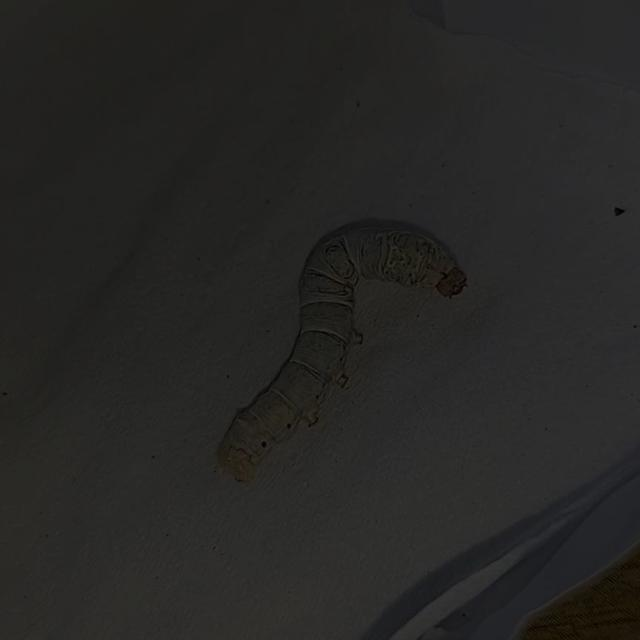Healthy: (209, 206, 475, 489)
